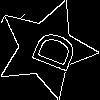D: (21, 24, 79, 75)
